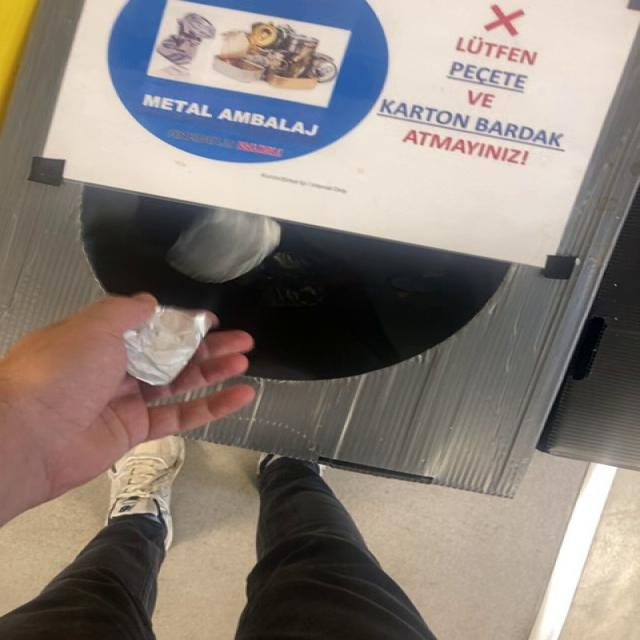bin: (3, 0, 640, 496)
metal: (123, 306, 216, 386)
